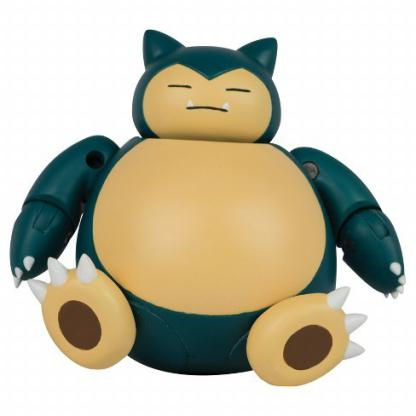Snorlax: (27, 43, 391, 380)
